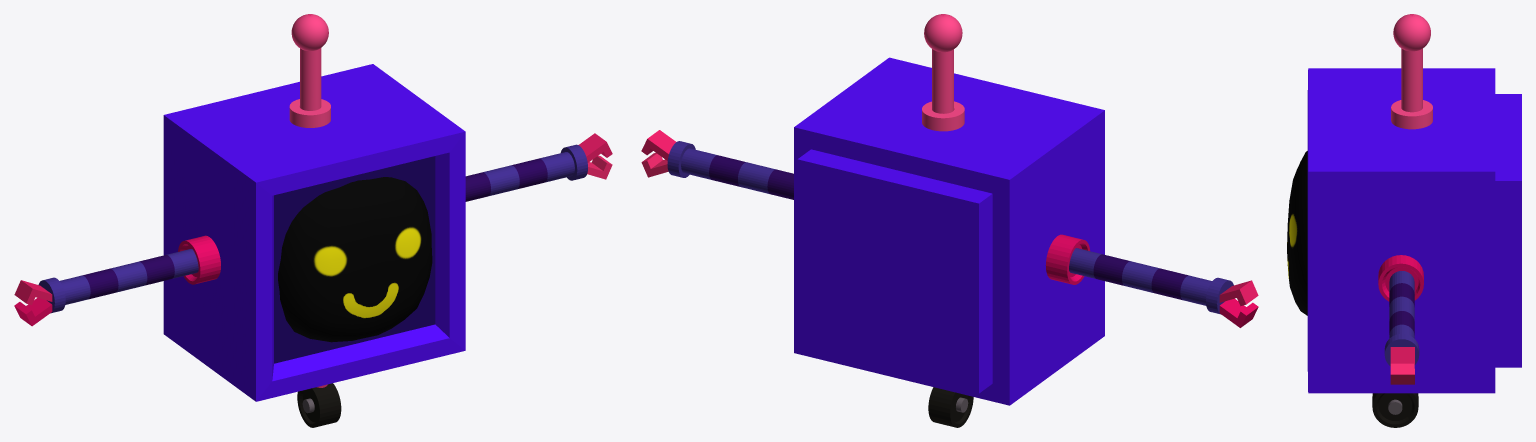
File: Robot6.glb
3 views of the same model, side by side, from view 1: azimuth 30°, elevation 25°; view 2: azimuth 150°, elevation 25°; view 3: azimuth 270°, elevation 25° (orthographic). The views are drawn at different scales.
Parts seen in each view (by area): view 1: Cube.002, Cube.006, Cylinder.008, Cylinder.005, Cylinder.007, Cylinder.001, Cube.007, Cube.005, Cube.003; view 2: Cube.002, Cylinder.008, Cylinder.005, Cylinder.007, Cylinder.001, Cube.007, Cube.005, Cube.003; view 3: Cube.002, Cylinder.007, Cylinder.005, Cube.006, Cylinder.001, Cube.004, Cube.003.
Part boxes in pixels (x1,y1,x2,y2): Cube.002: (163, 64, 465, 401); Cube.006: (278, 177, 432, 342); Cylinder.008: (38, 235, 220, 313); Cylinder.005: (465, 144, 587, 201); Cylinder.007: (289, 14, 330, 127); Cylinder.001: (297, 383, 341, 427); Cube.007: (14, 298, 52, 326); Cube.005: (14, 280, 52, 304); Cube.003: (578, 133, 612, 162); Cube.002: (794, 57, 1104, 405); Cylinder.008: (1045, 234, 1233, 314); Cylinder.005: (667, 141, 793, 199); Cylinder.007: (922, 14, 964, 131); Cylinder.001: (928, 387, 973, 427); Cube.007: (1219, 298, 1258, 327); Cube.005: (1219, 280, 1258, 306); Cube.003: (641, 130, 675, 160); Cube.002: (1307, 68, 1521, 393); Cylinder.007: (1391, 14, 1432, 129); Cylinder.005: (1378, 255, 1423, 366); Cube.006: (1287, 151, 1307, 315); Cylinder.001: (1372, 393, 1418, 427); Cube.004: (1390, 363, 1414, 384); Cube.003: (1390, 347, 1414, 363).
Bounding box in the file's own units: 2.23 × 1.46 × 0.7644.
19 materials, 4 textured.
